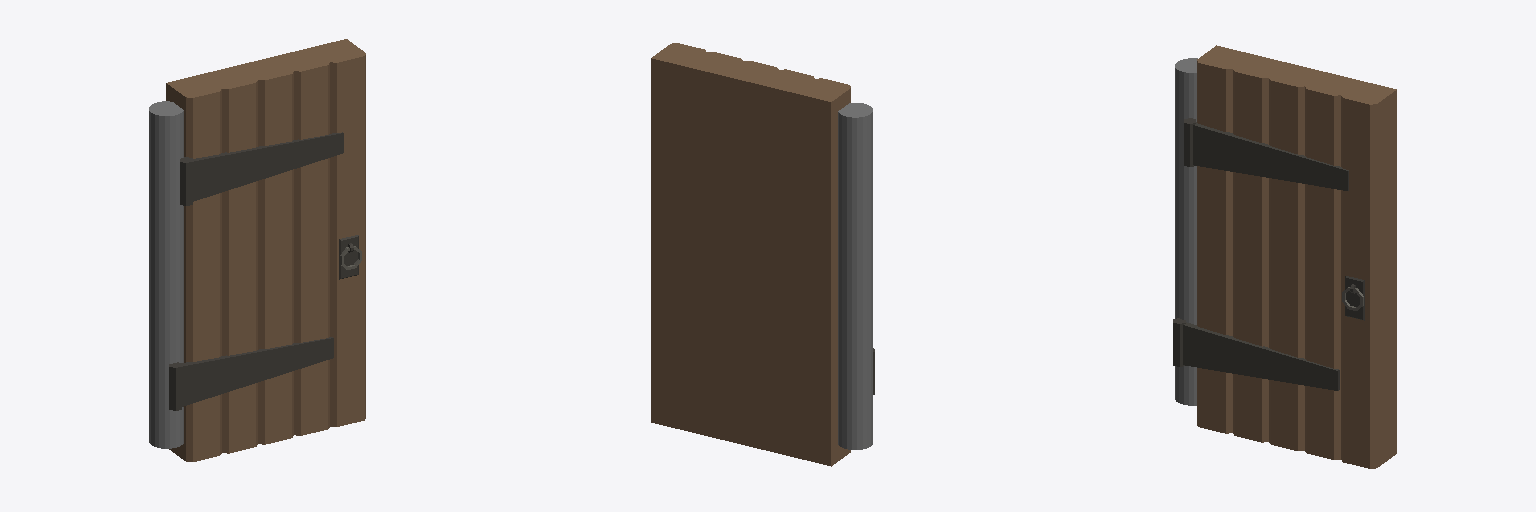
File: door.obj
The picture shows the model from 3 angles: view 1: azimuth 30°, elevation 25°; view 2: azimuth 150°, elevation 25°; view 3: azimuth 330°, elevation 25°; orthographic projection.
Visible parts, largest first — view 1: pCylinder1 doa:object4, pCylinder1, pCylinder1 doa:object2, pCylinder1 doa:object1, pCylinder1 doa:object3; view 2: pCylinder1 doa:object4, pCylinder1; view 3: pCylinder1 doa:object4, pCylinder1, pCylinder1 doa:object2, pCylinder1 doa:object1, pCylinder1 doa:object3.
Boxes of the visible parts, box(x1,y1,x2,y2) form: pCylinder1 doa:object4: box(166, 39, 365, 461); pCylinder1: box(149, 101, 183, 448); pCylinder1 doa:object2: box(169, 337, 333, 410); pCylinder1 doa:object1: box(180, 132, 343, 205); pCylinder1 doa:object3: box(339, 235, 358, 279); pCylinder1 doa:object4: box(651, 43, 850, 466); pCylinder1: box(838, 103, 872, 449); pCylinder1 doa:object4: box(1197, 45, 1396, 468); pCylinder1: box(1175, 58, 1197, 405); pCylinder1 doa:object2: box(1173, 318, 1339, 390); pCylinder1 doa:object1: box(1184, 118, 1348, 190); pCylinder1 doa:object3: box(1345, 276, 1364, 320).
Size of the model in its own units: 0.9 by 1.51 by 0.1989.